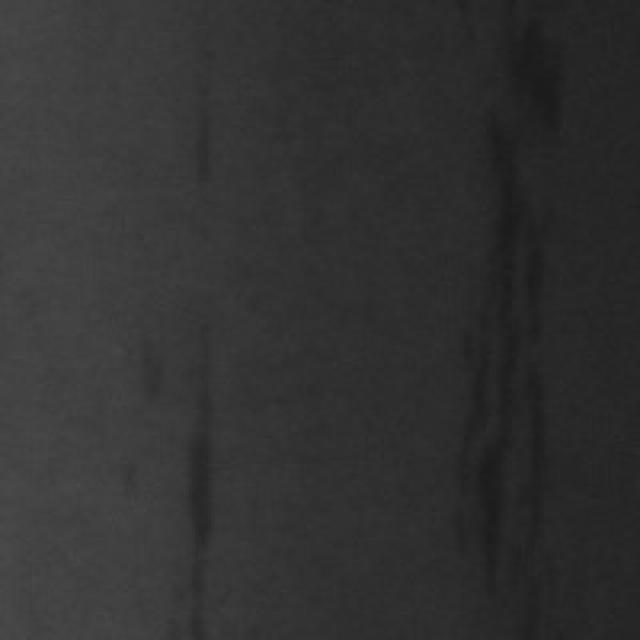inclusion: (451, 0, 570, 624), (144, 297, 230, 634), (170, 38, 227, 192)
